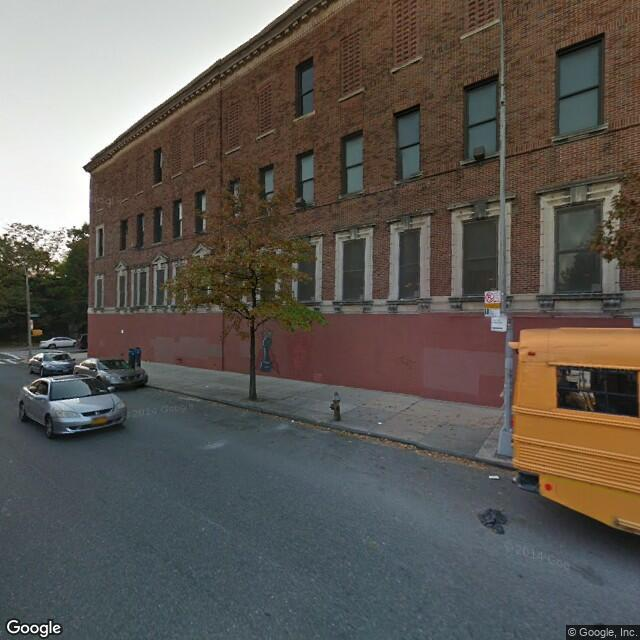litter: (479, 508, 509, 533), (488, 473, 500, 480), (513, 476, 517, 480), (291, 419, 294, 422), (377, 421, 380, 424)
